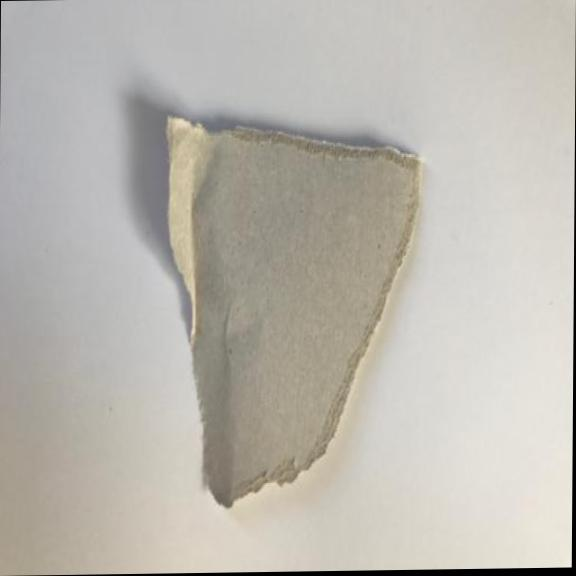Kertas: (148, 99, 430, 521)
